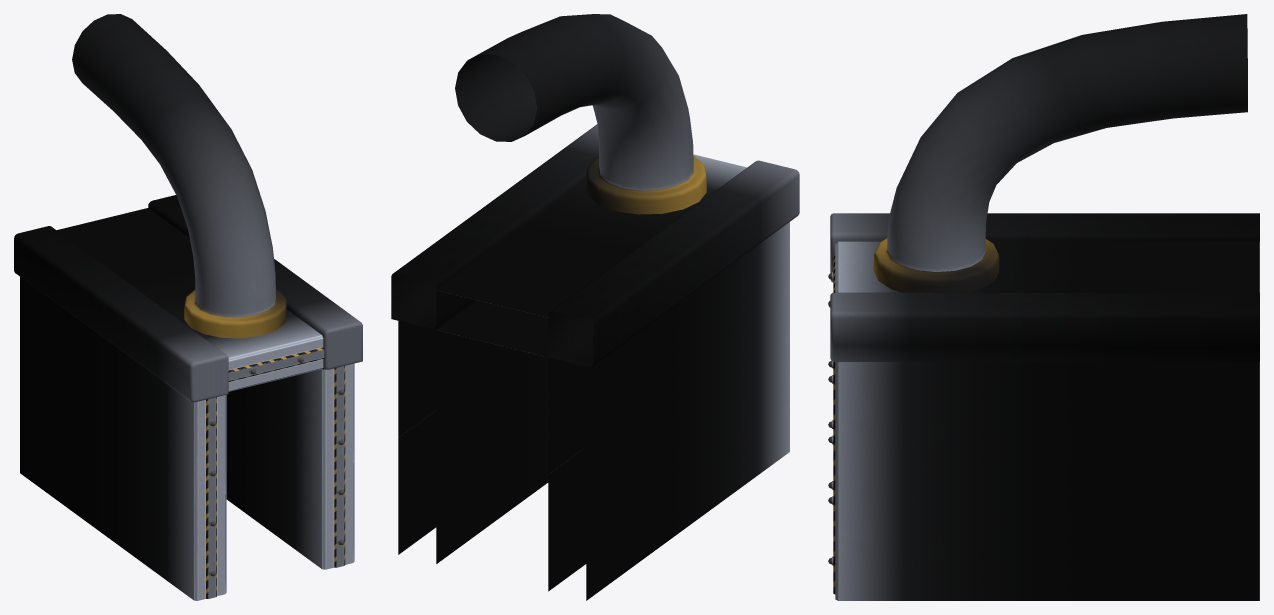
File: port.fbx
3 renders of one model, left to right at view 1: azimuth 30°, elevation 25°; view 2: azimuth 150°, elevation 25°; view 3: azimuth 270°, elevation 25°, orthographic. The views are drawn at different scales.
Visible parts, largest first — view 1: port; view 2: port; view 3: port.
Boxes of the visible parts, x1,y1,x2,y2 form: port: (14, 14, 362, 600); port: (391, 14, 799, 600); port: (828, 14, 1259, 600).
Bounding box in the file's own units: 361 × 885 × 646.
1 material, 1 textured.
